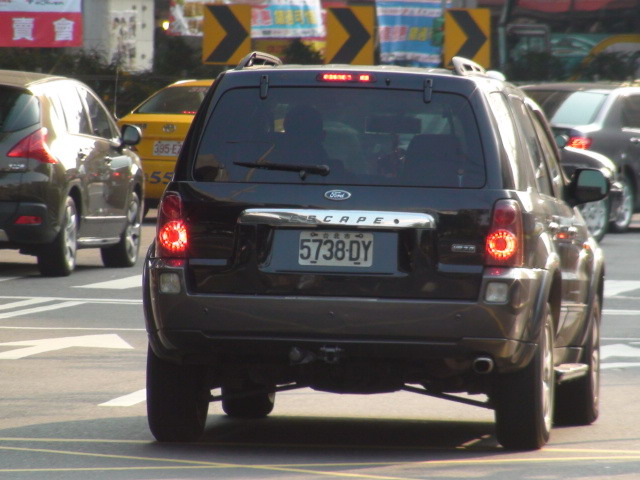plate: (297, 228, 375, 269), (153, 138, 185, 159)
